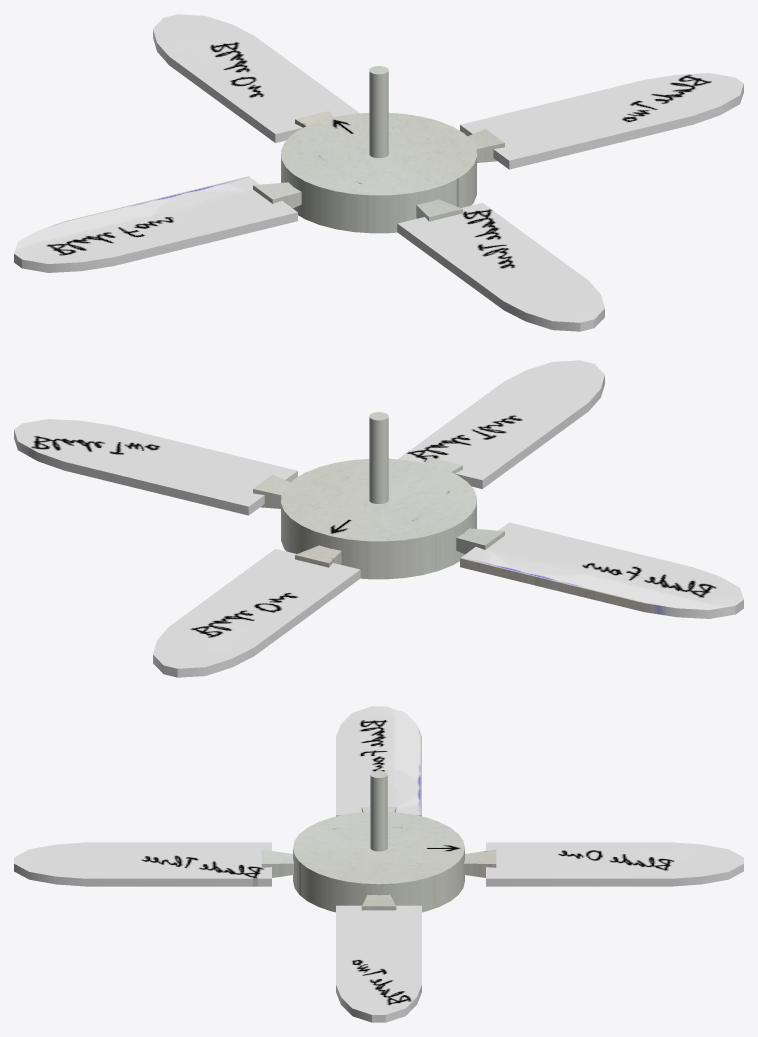
Rendered from fan.fbx.
3 renders of one model, top to bottom at view 1: azimuth 30°, elevation 25°; view 2: azimuth 150°, elevation 25°; view 3: azimuth 270°, elevation 25°, orthographic. The views are drawn at different scales.
Visible parts, largest first — view 1: Cube.002; view 2: Cube.002; view 3: Cube.002.
Boxes of the visible parts, left/top/right/bottom form: Cube.002: left=14, top=14, right=743, bottom=331; Cube.002: left=14, top=360, right=743, bottom=677; Cube.002: left=14, top=706, right=743, bottom=1022.
Bounding box in the file's own units: 4.24 × 0.6835 × 4.24.
1 material, 1 textured.
